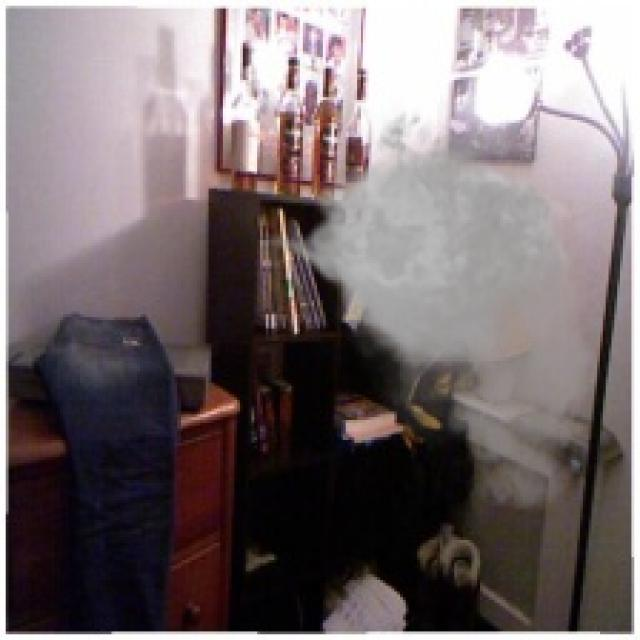smoke: (257, 97, 609, 517)
